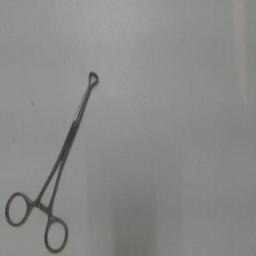Babcock Tissue Forceps: (4, 67, 102, 255)
